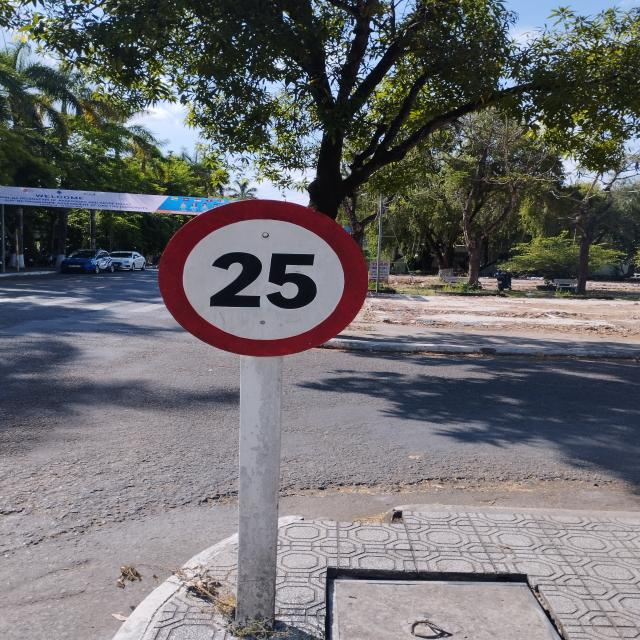Tre_Em: (156, 200, 368, 356)
